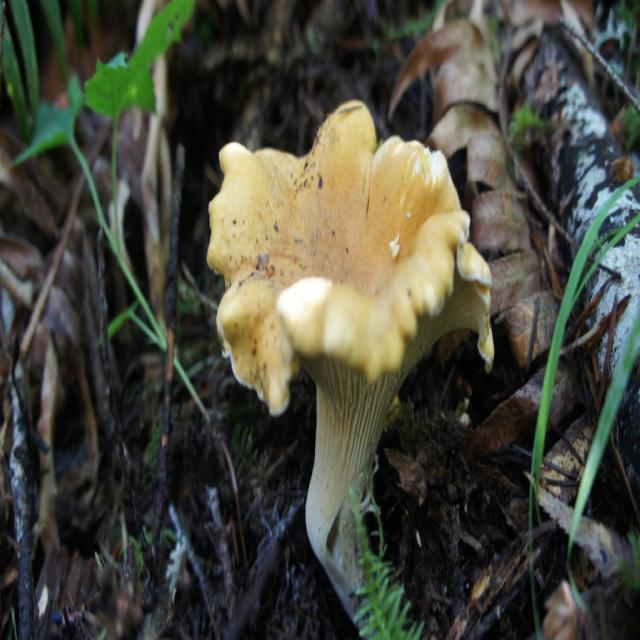Mushroom: (216, 87, 500, 639)
